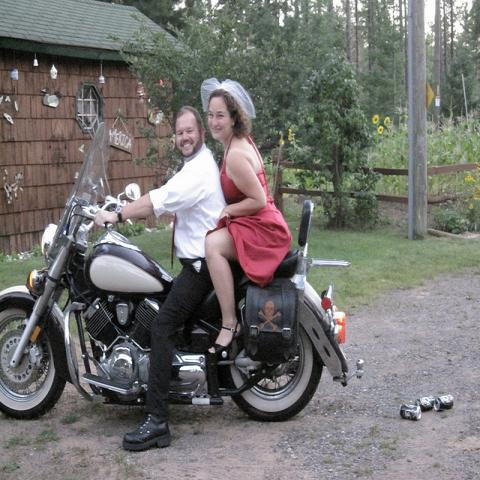motorcycle: (3, 123, 365, 426)
